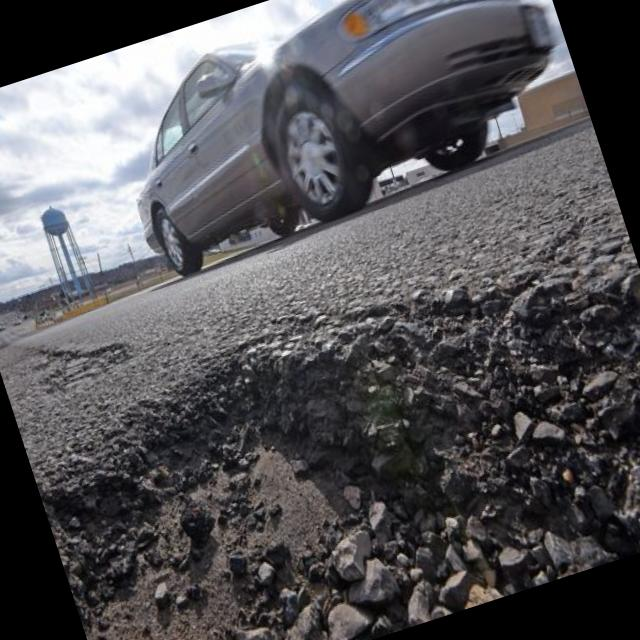Potholes: (14, 207, 640, 640)
